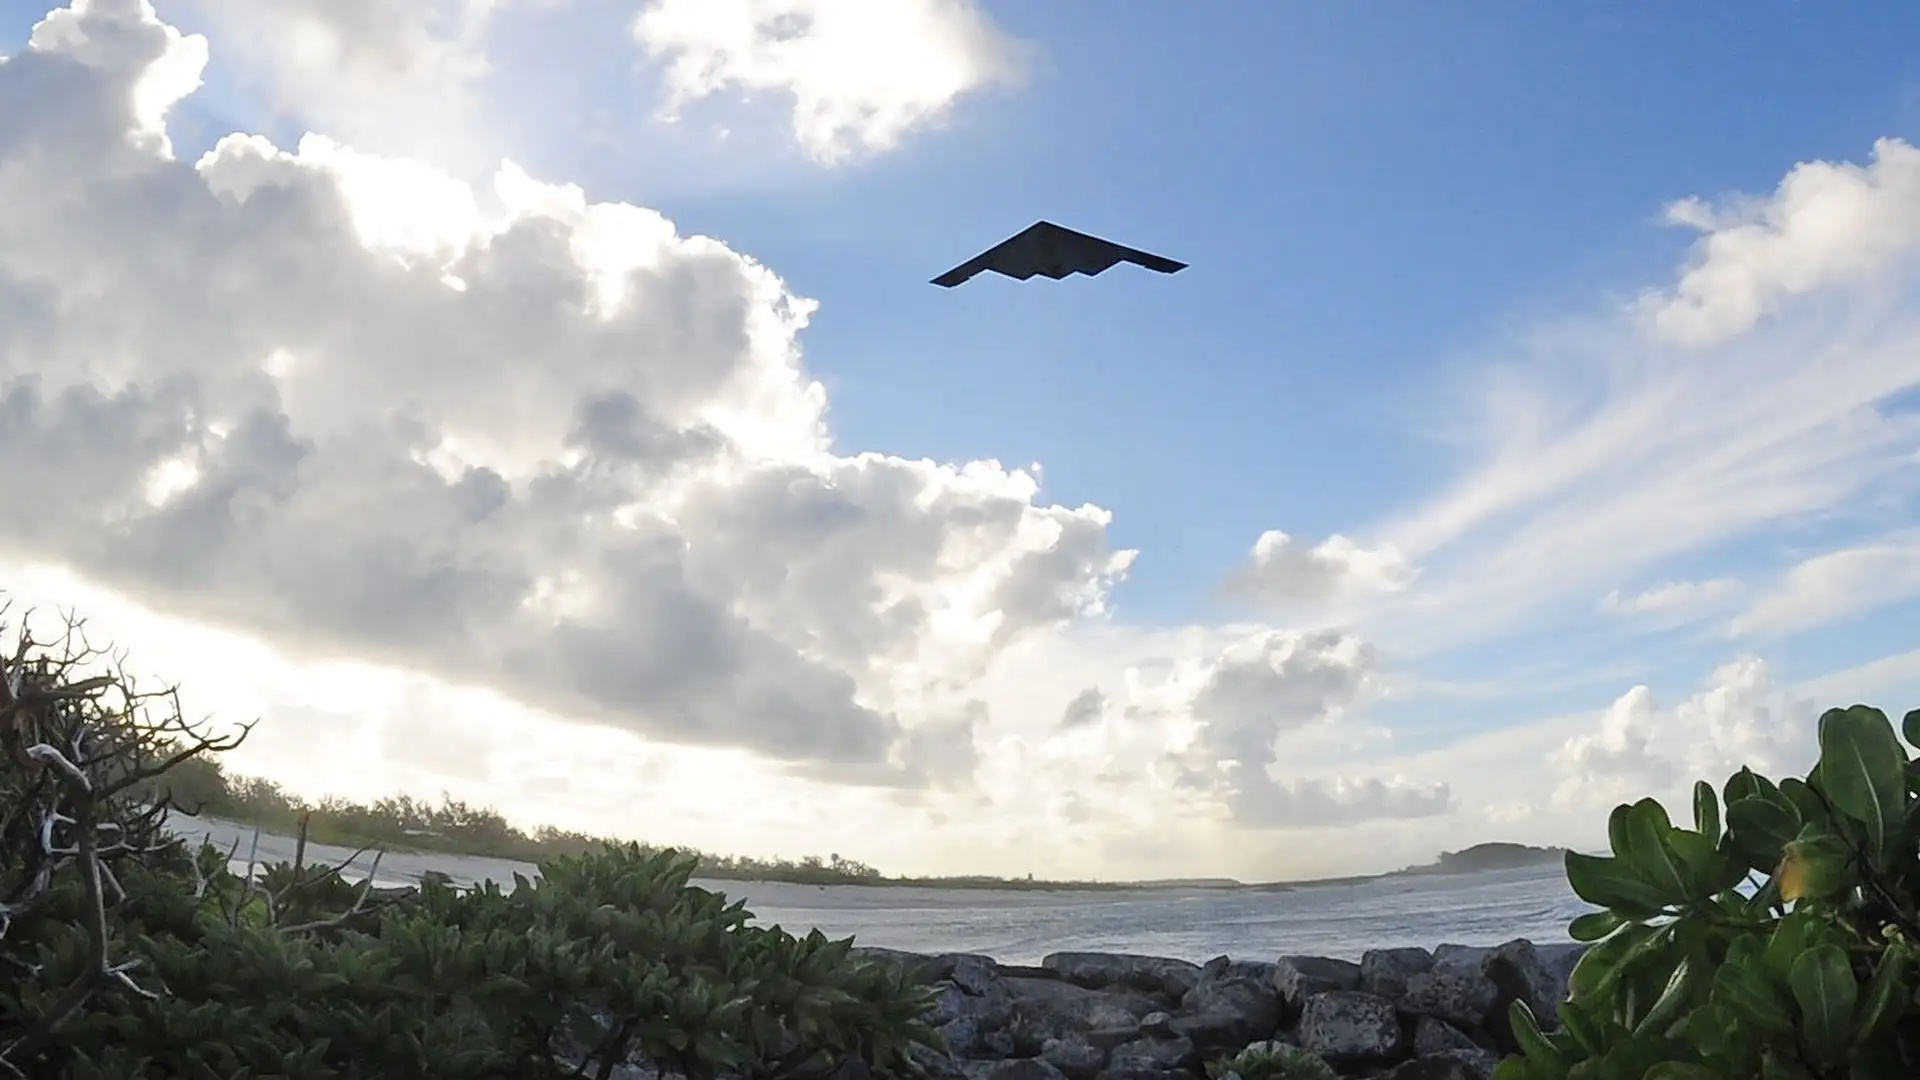B2: (927, 220, 1189, 287)
